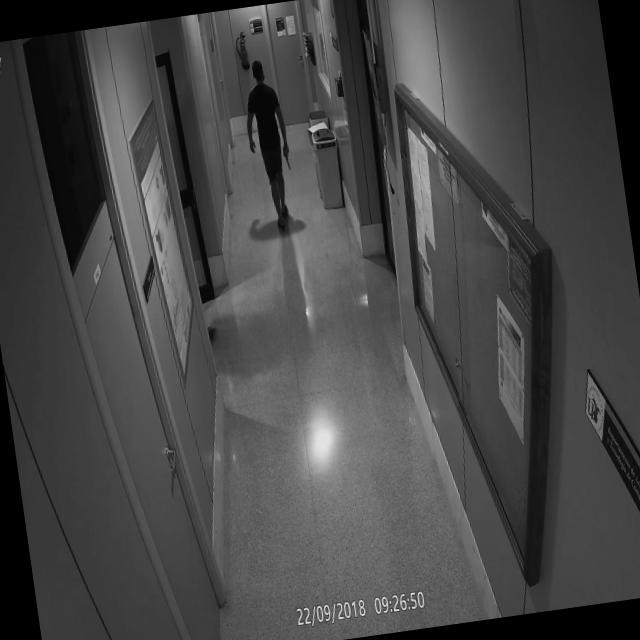gun: (279, 138, 294, 176)
person with a gun: (242, 54, 298, 240)
